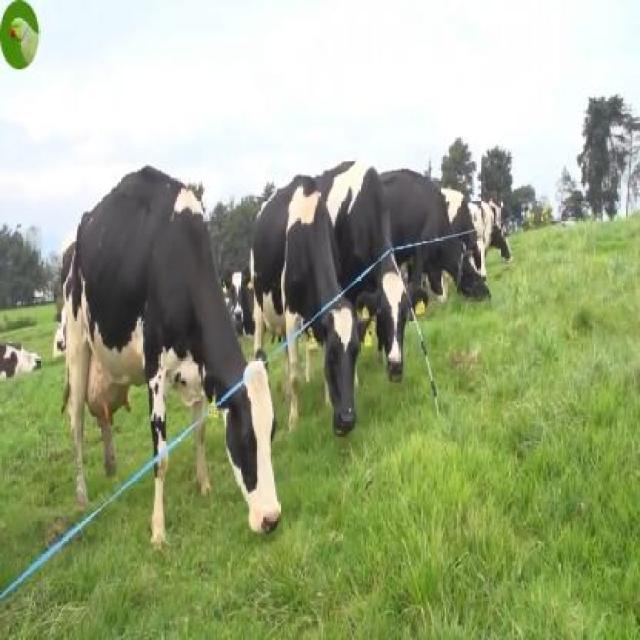Cow: (62, 163, 283, 543), (254, 175, 361, 434)
